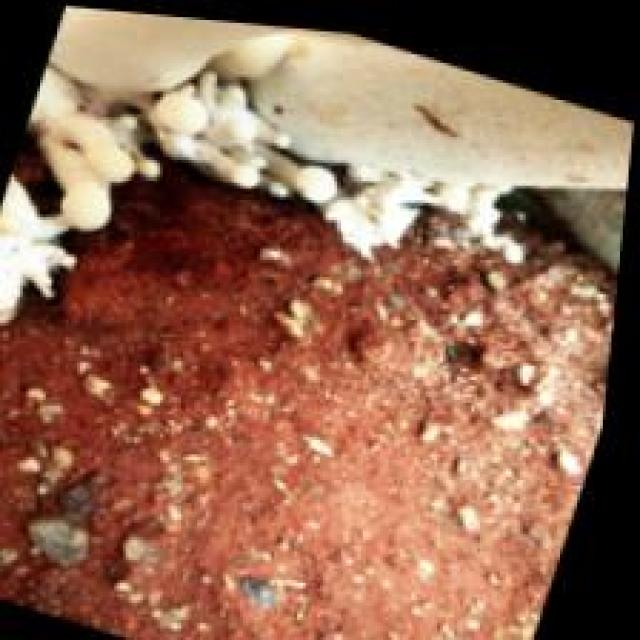death-cap: (0, 8, 634, 637)
